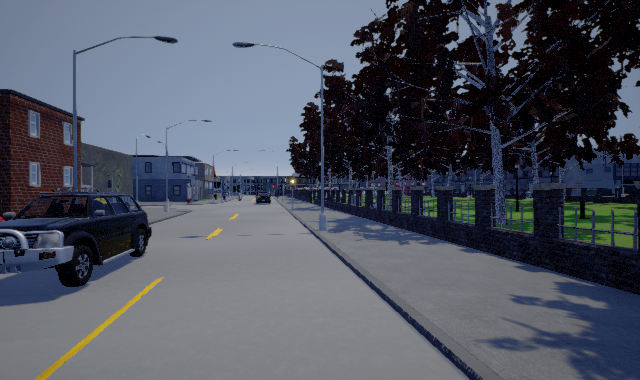traffic_light: (291, 174, 295, 189)
vehicle: (1, 188, 152, 287), (254, 191, 271, 205)
